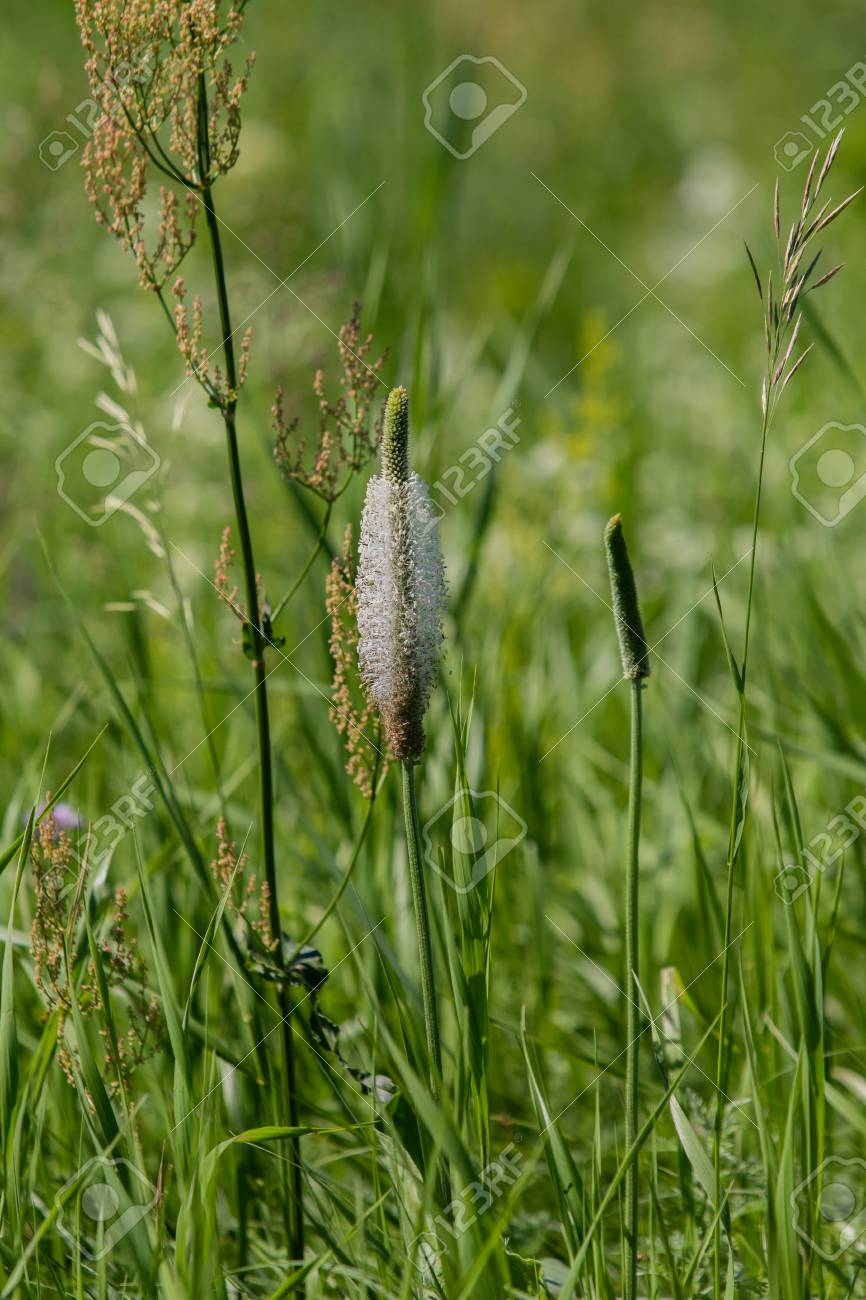buckhorn plantain: (354, 370, 489, 943), (550, 506, 691, 960)
